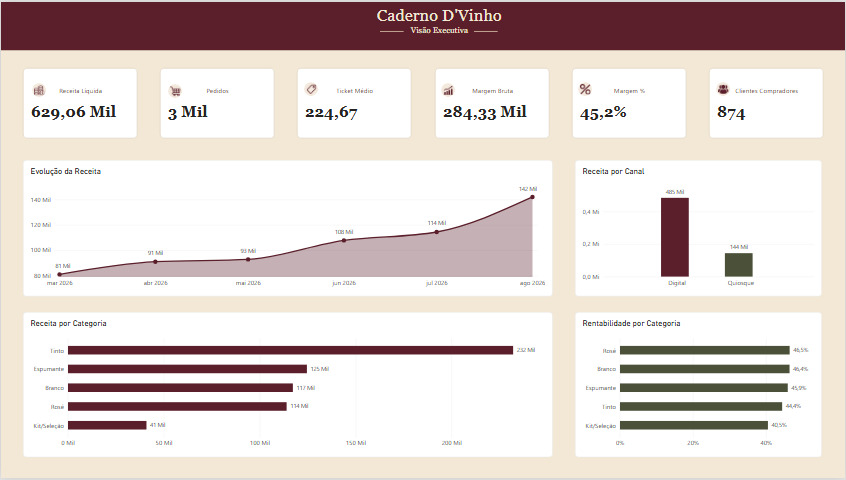

Layout of this report page (visuals, bound fields, positions):
{"tool":"powerbi","page":{"name":"Visão executiva","canvas":[1920,1080],"ordinal":0},"visuals":[{"type":"cardVisual","fields":{"Data":["_Medidas.Receita Líquida"]},"box":[50,150,260,160],"z":0},{"type":"cardVisual","fields":{"Data":["_Medidas.Pedidos"]},"box":[361.8,150,260,160],"z":1000},{"type":"cardVisual","fields":{"Data":["_Medidas.Ticket Médio"]},"box":[673.6,150,260,160],"z":2000},{"type":"cardVisual","fields":{"Data":["_Medidas.Margem Bruta"]},"box":[985.4,150,260,160],"z":3000},{"type":"cardVisual","fields":{"Data":["_Medidas.Margem %"]},"box":[1297.2,150,260,160],"z":4000},{"type":"lineChart","title":"Evolução da Receita","fields":{"Category":["Calendario.ano_mes.Variation.Hierarquia de datas.Ano","Calendario.ano_mes.Variation.Hierarquia de datas.Trimestre","Calendario.ano_mes.Variation.Hierarquia de datas.Mês","Calendario.ano_mes.Variation.Hierarquia de datas.Dia"],"Y":["_Medidas.Receita Líquida"]},"box":[50,360,1203.9,310],"z":5000},{"type":"columnChart","title":"Receita por Canal","fields":{"Category":["Canais.tipo_canal"],"Y":["_Medidas.Receita Líquida"]},"box":[1305,360,560.8,310],"z":6000},{"type":"clusteredBarChart","title":"Receita por Categoria","fields":{"Category":["Produtos.categoria"],"Y":["_Medidas.Receita Líquida"]},"box":[50,703.7,1203.9,330],"z":7000},{"type":"cardVisual","fields":{"Data":["_Medidas.Clientes Compradores"]},"box":[1609,150,260,160],"z":8000},{"type":"clusteredBarChart","title":"Rentabilidade por Categoria","fields":{"Category":["Produtos.categoria"],"Y":["_Medidas.Margem %"]},"box":[1305.6,703.7,560.8,330],"z":9000},{"type":"shape","box":[0.2,0,1919.8,110],"z":10000},{"type":"textbox","box":[839.2,10,314.6,70.2],"z":11000},{"type":"textbox","box":[927.8,54.2,138.2,34],"z":12000},{"type":"shape","box":[71.2,184.7,32,32],"z":13000,"group":"g1"},{"type":"group","id":"g1","title":"Grupo 2","box":[71.2,184.7,32.4,32.4],"z":13000},{"type":"shape","box":[688.8,182.9,32,32],"z":14000,"group":"g3"},{"type":"shape","box":[1312.4,182.9,32,32],"z":14000,"group":"g5"},{"type":"shape","box":[1625.3,182.9,32,32],"z":14000,"group":"g6"},{"type":"shape","box":[1000.6,184.7,32,32],"z":14000,"group":"g4"},{"type":"shape","box":[380,185.3,32,32],"z":14000,"group":"g2"},{"type":"group","id":"g2","title":"Grupo 3","box":[380,185.3,31.8,32.4],"z":14000},{"type":"group","id":"g3","title":"Grupo 4","box":[688.8,182.9,31.8,31.8],"z":15000},{"type":"group","id":"g4","title":"Grupo 4","box":[1000.6,184.7,31.8,31.8],"z":16000},{"type":"image","box":[75.2,188.7,24,24],"z":16000,"group":"g1"},{"type":"group","id":"g5","title":"Grupo 1","box":[1312.4,182.9,31.8,31.8],"z":17000},{"type":"image","box":[692.8,186.9,24,24],"z":17000,"group":"g3"},{"type":"image","box":[1316.4,186.9,24,24],"z":17000,"group":"g5"},{"type":"image","box":[1629.3,186.9,24,24],"z":17000,"group":"g6"},{"type":"image","box":[1004.6,188.7,24,24],"z":17000,"group":"g4"},{"type":"image","box":[384,189.3,24,24],"z":17000,"group":"g2"},{"type":"group","id":"g6","title":"Grupo 5","box":[1625.3,182.9,32,32],"z":18000},{"type":"shape","box":[861.1,44.4,54.2,43.1],"z":19000},{"type":"shape","box":[1075,44.4,54.2,43.1],"z":20000}]}

Visuals, with their boxes in screenshot pixels (x1, y1, x2, y2), scaled from the page's 1920x1080 canvas onto the 846x480 screenshot:
cardVisual - _Medidas.Receita Líquida: [x1=22, y1=67, x2=137, y2=138]
cardVisual - _Medidas.Pedidos: [x1=159, y1=67, x2=274, y2=138]
cardVisual - _Medidas.Ticket Médio: [x1=297, y1=67, x2=411, y2=138]
cardVisual - _Medidas.Margem Bruta: [x1=434, y1=67, x2=549, y2=138]
cardVisual - _Medidas.Margem %: [x1=572, y1=67, x2=686, y2=138]
"Evolução da Receita" lineChart: [x1=22, y1=160, x2=552, y2=298]
"Receita por Canal" columnChart: [x1=575, y1=160, x2=822, y2=298]
"Receita por Categoria" clusteredBarChart: [x1=22, y1=313, x2=552, y2=459]
cardVisual - _Medidas.Clientes Compradores: [x1=709, y1=67, x2=824, y2=138]
"Rentabilidade por Categoria" clusteredBarChart: [x1=575, y1=313, x2=822, y2=459]
shape: [x1=0, y1=0, x2=845, y2=49]
textbox: [x1=370, y1=4, x2=508, y2=36]
textbox: [x1=409, y1=24, x2=470, y2=39]
shape: [x1=31, y1=82, x2=45, y2=96]
"Grupo 2" group: [x1=31, y1=82, x2=46, y2=96]
shape: [x1=304, y1=81, x2=318, y2=96]
shape: [x1=578, y1=81, x2=592, y2=96]
shape: [x1=716, y1=81, x2=730, y2=96]
shape: [x1=441, y1=82, x2=455, y2=96]
shape: [x1=167, y1=82, x2=182, y2=97]
"Grupo 3" group: [x1=167, y1=82, x2=181, y2=97]
"Grupo 4" group: [x1=304, y1=81, x2=318, y2=95]
"Grupo 4" group: [x1=441, y1=82, x2=455, y2=96]
image: [x1=33, y1=84, x2=44, y2=95]
"Grupo 1" group: [x1=578, y1=81, x2=592, y2=95]
image: [x1=305, y1=83, x2=316, y2=94]
image: [x1=580, y1=83, x2=591, y2=94]
image: [x1=718, y1=83, x2=728, y2=94]
image: [x1=443, y1=84, x2=453, y2=95]
image: [x1=169, y1=84, x2=180, y2=95]
"Grupo 5" group: [x1=716, y1=81, x2=730, y2=96]
shape: [x1=379, y1=20, x2=403, y2=39]
shape: [x1=474, y1=20, x2=498, y2=39]
